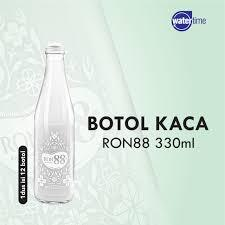BIODEGRADABLE: (36, 42, 77, 205)
